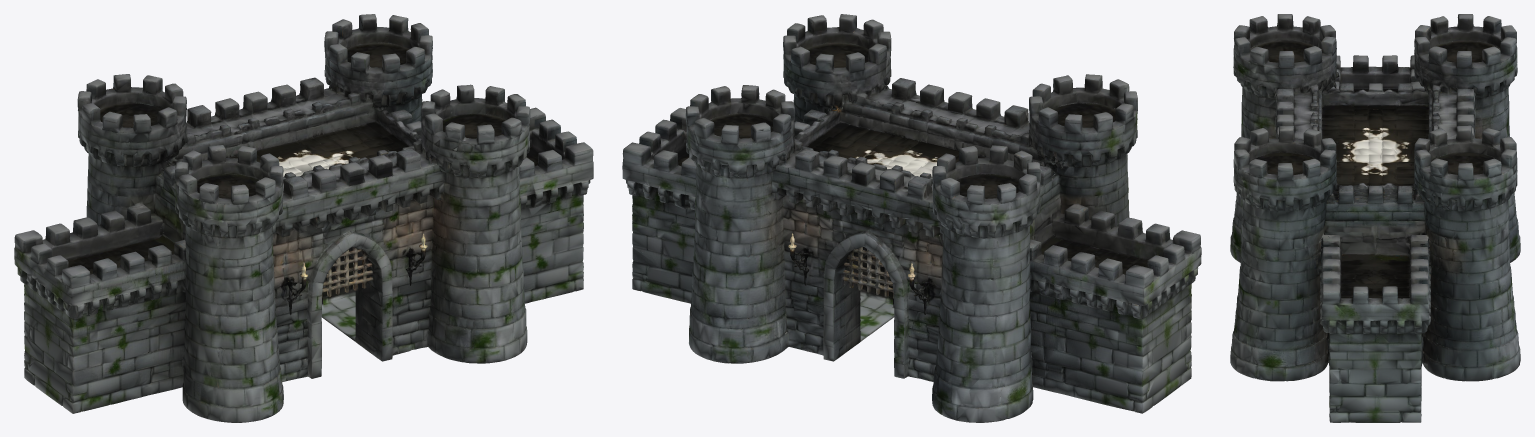
Rendered from gatehouse.glb.
The picture shows the model from 3 angles, left to right: view 1: azimuth 30°, elevation 25°; view 2: azimuth 150°, elevation 25°; view 3: azimuth 270°, elevation 25°; orthographic projection. The views are drawn at different scales.
Visible parts, largest first — view 1: gatehouse; view 2: gatehouse; view 3: gatehouse.
Boxes of the visible parts, x1,y1,x2,y2 form: gatehouse: (14,14,593,422); gatehouse: (622,14,1201,422); gatehouse: (1230,14,1520,422).
Bounding box in the file's own units: 2 × 0.851 × 1.03.
Materials: 1 (1 with a texture image).
